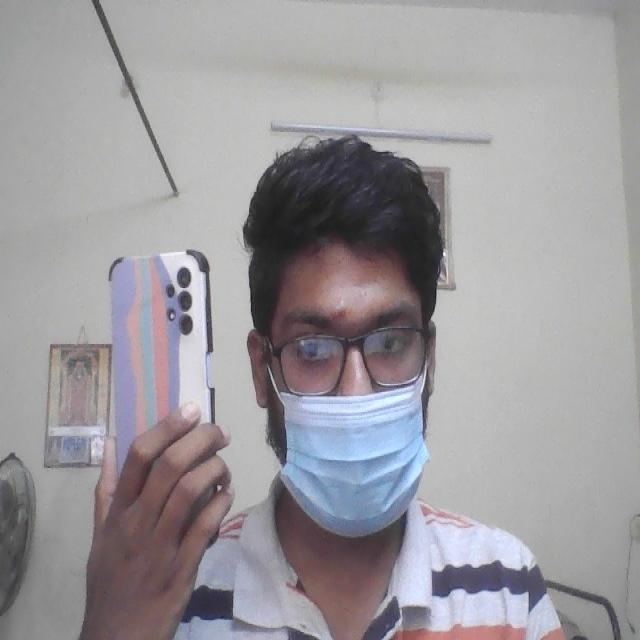Mobile: (102, 247, 221, 437)
